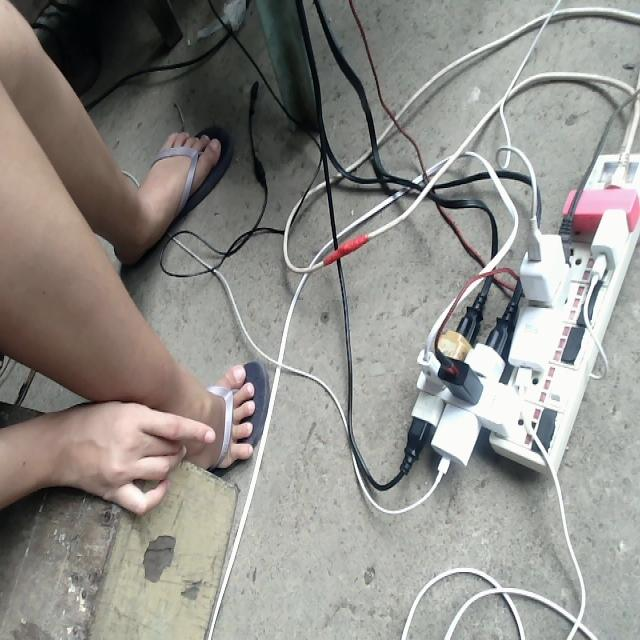-: (402, 152, 639, 477)
